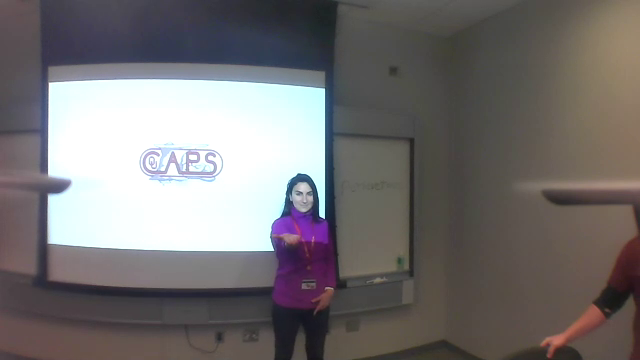land: (268, 228, 303, 250)
